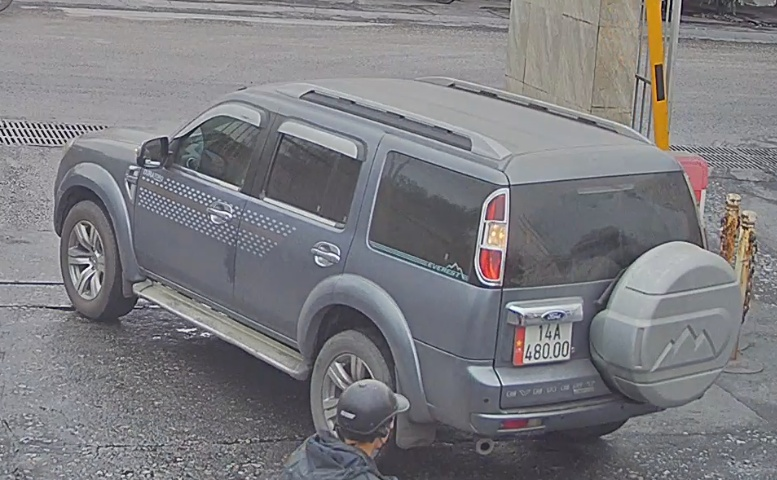vehicle plate: (508, 313, 577, 369)
